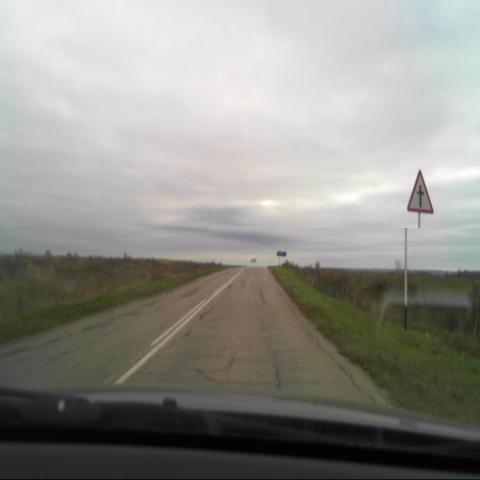2_3: (405, 169, 433, 214)
